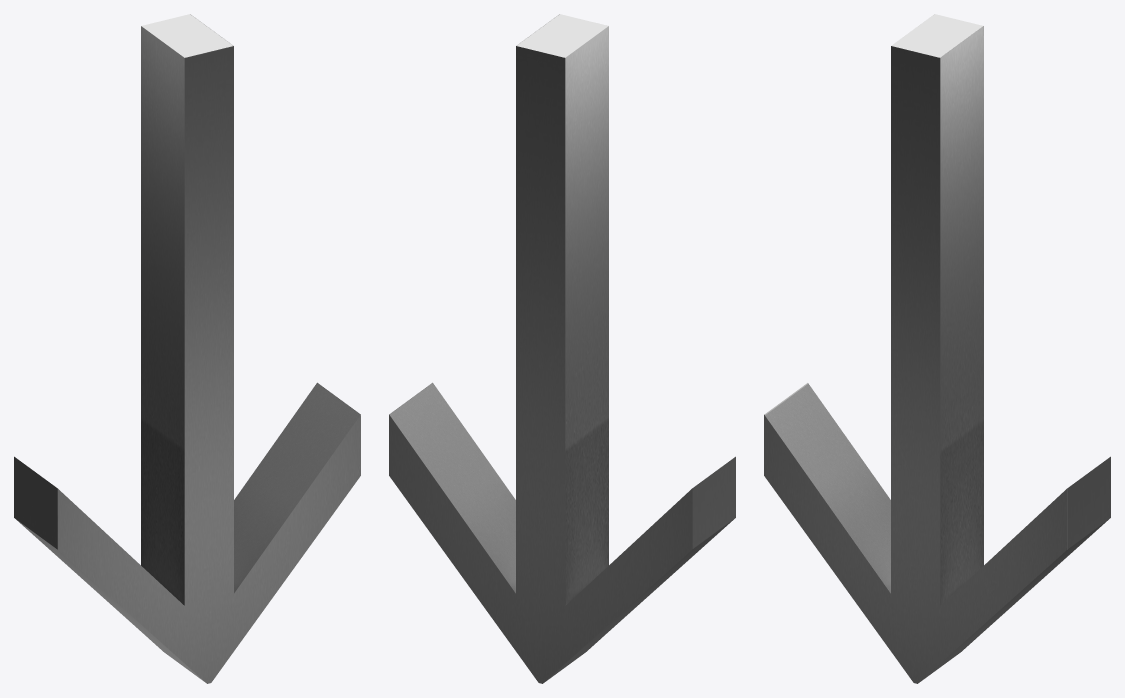
Rendered from threedarrow2.dae.
3 renders of one model, left to right at view 1: azimuth 30°, elevation 25°; view 2: azimuth 150°, elevation 25°; view 3: azimuth 330°, elevation 25°, orthographic.
Parts seen in each view (by area): view 1: Cube; view 2: Cube; view 3: Cube.
Boxes of the visible parts, bbox=[...] form: Cube: bbox=[14, 14, 360, 683]; Cube: bbox=[389, 14, 735, 683]; Cube: bbox=[764, 14, 1110, 683].
Size of the model in its own units: 2.53 by 0.6301 by 5.03.
1 material, 1 textured.
